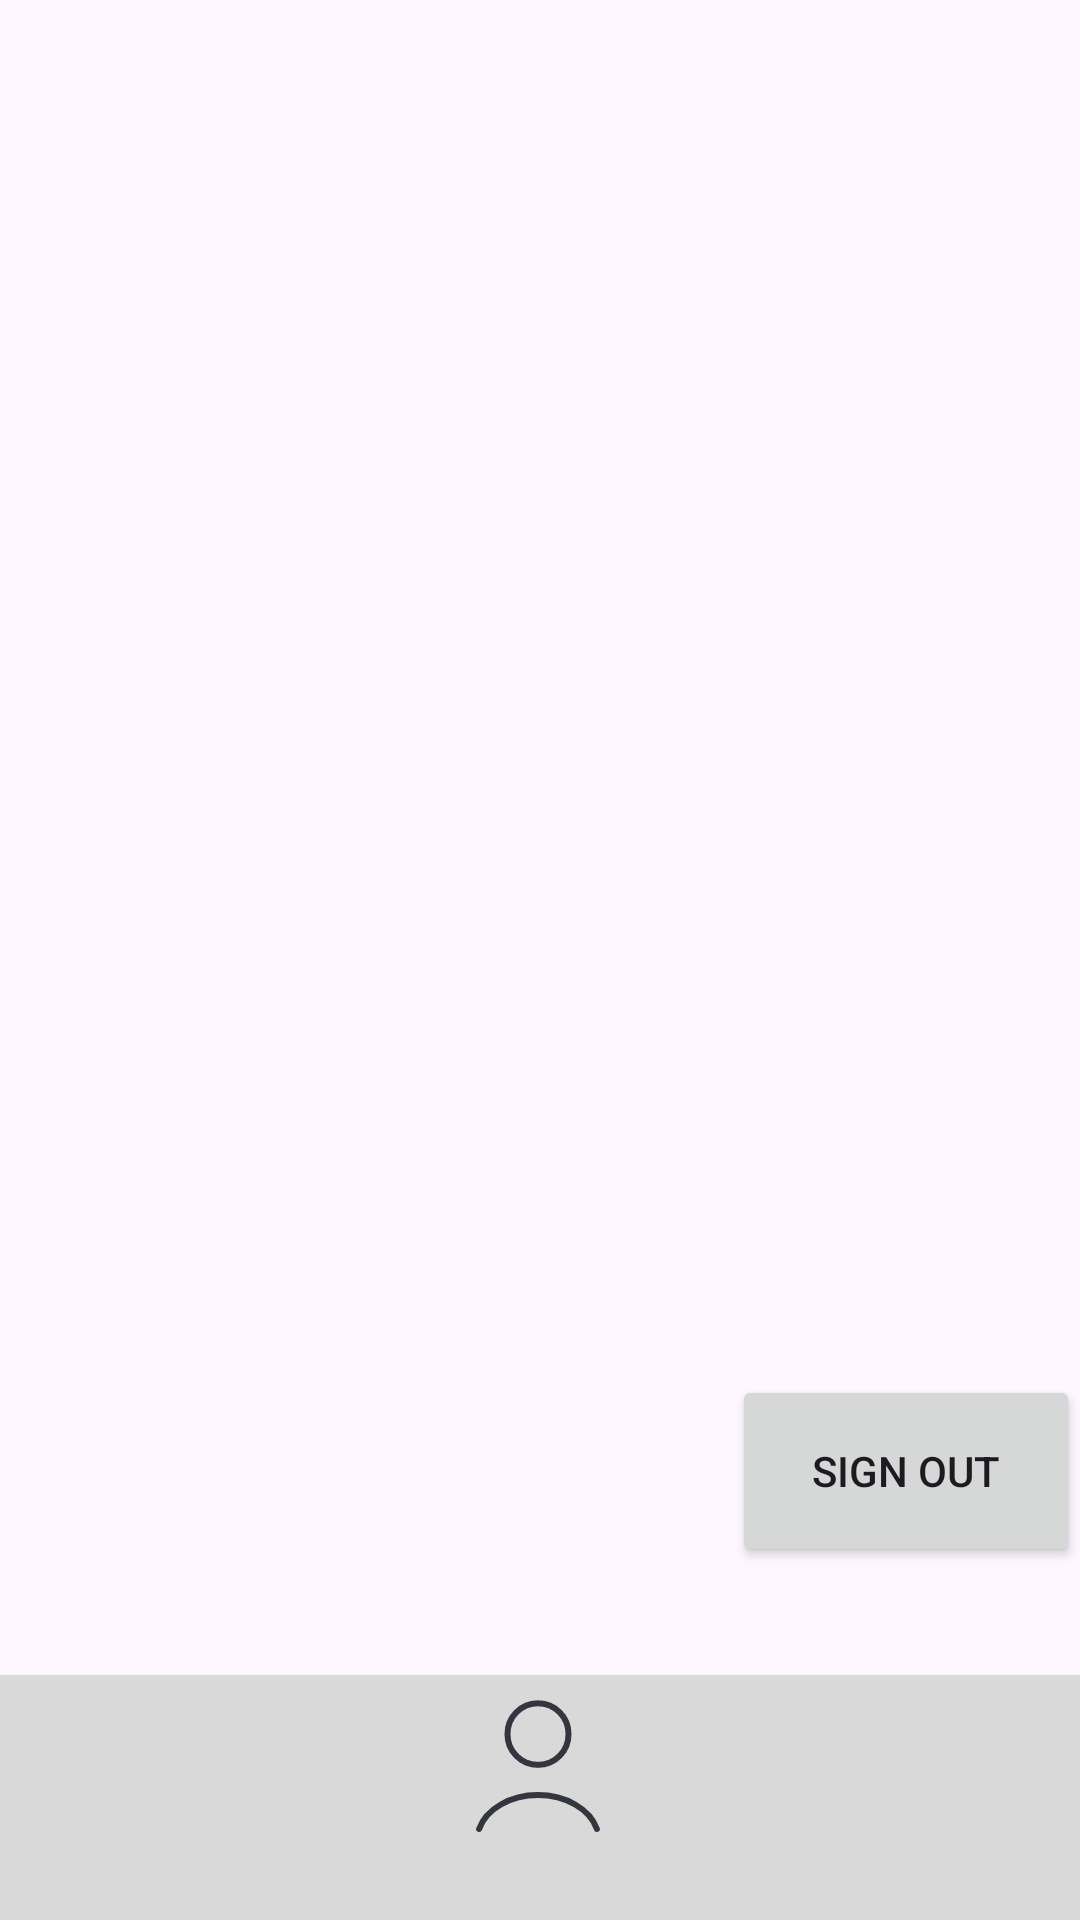

Icons on this 1080 x 1920 Android screen, each with its box as (x1, y1, x2, y2):
user: (476, 1700, 600, 1832)
